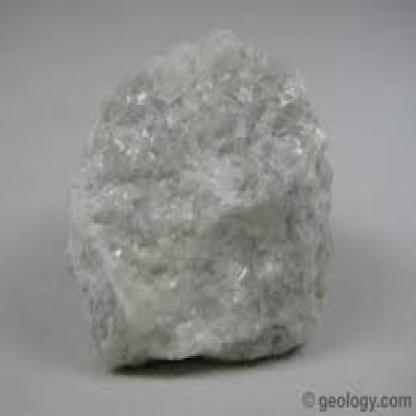Metamorphic_Quartize: (61, 17, 331, 378)
